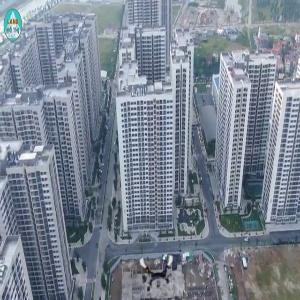drone: (140, 253, 176, 289)
